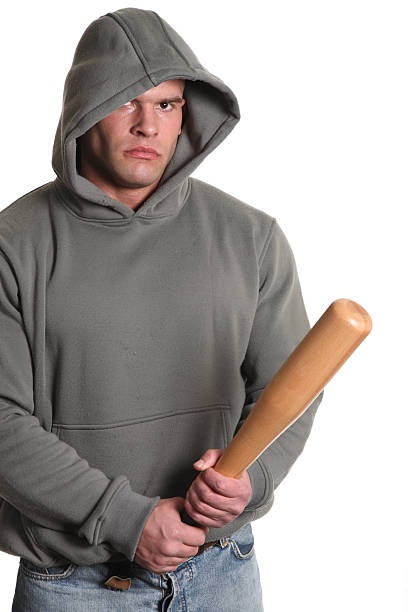bita: (108, 307, 363, 594)
